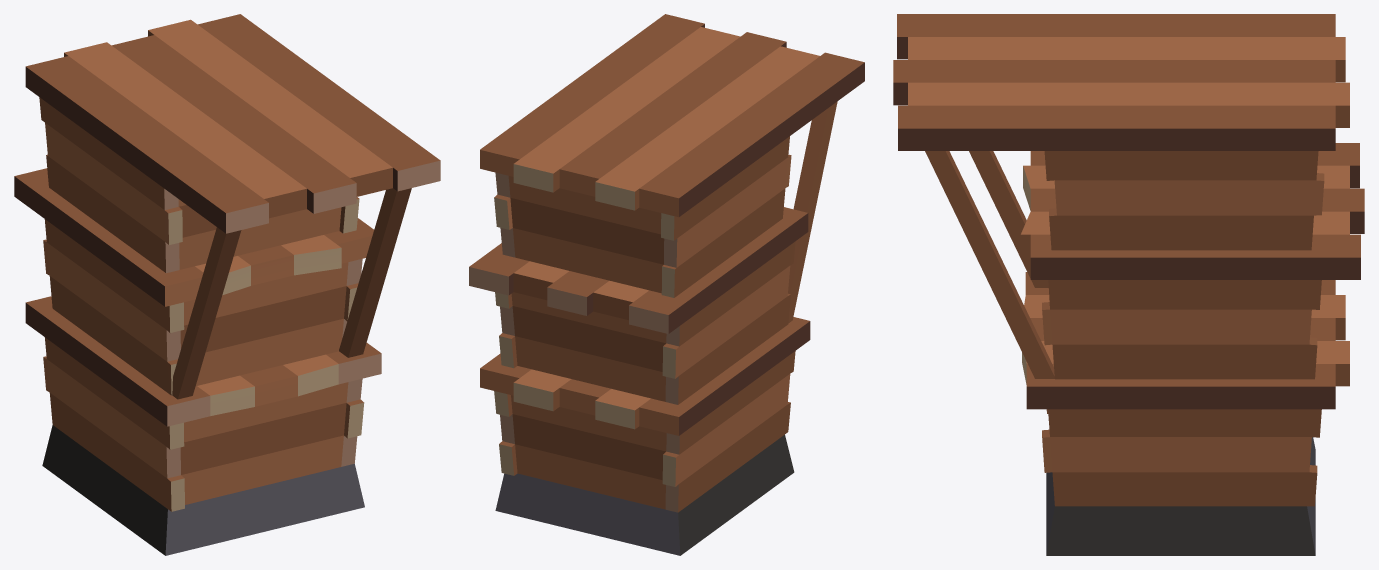
File: TB_Bd_Wood_Med.FBX
3 views of the same model, side by side, from view 1: azimuth 30°, elevation 25°; view 2: azimuth 150°, elevation 25°; view 3: azimuth 270°, elevation 25° (orthographic). The views are drawn at different scales.
Parts seen in each view (by area): view 1: TB_Bd_Wood_Med; view 2: TB_Bd_Wood_Med; view 3: TB_Bd_Wood_Med.
Part boxes in pixels (left/top/right/bottom): TB_Bd_Wood_Med: left=14, top=14, right=440, bottom=555; TB_Bd_Wood_Med: left=469, top=14, right=864, bottom=555; TB_Bd_Wood_Med: left=893, top=14, right=1364, bottom=555.
Size of the model in its own units: 2.87 by 5.03 by 4.98.
